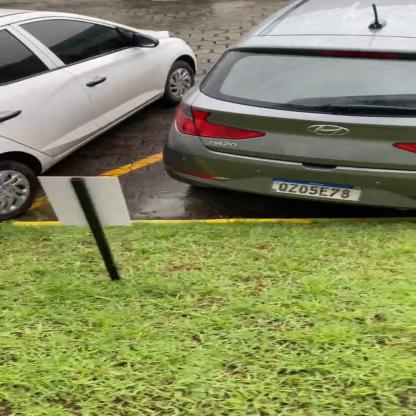Plate: (270, 173, 364, 205)
